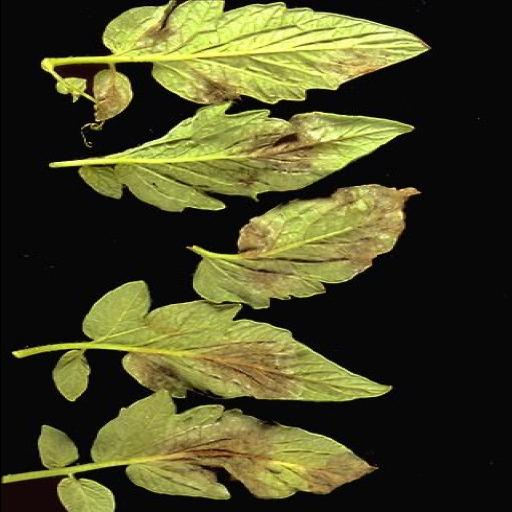disease_tomato: (42, 97, 418, 213), (37, 1, 432, 109), (76, 277, 402, 405), (87, 387, 379, 512), (174, 182, 424, 304)
